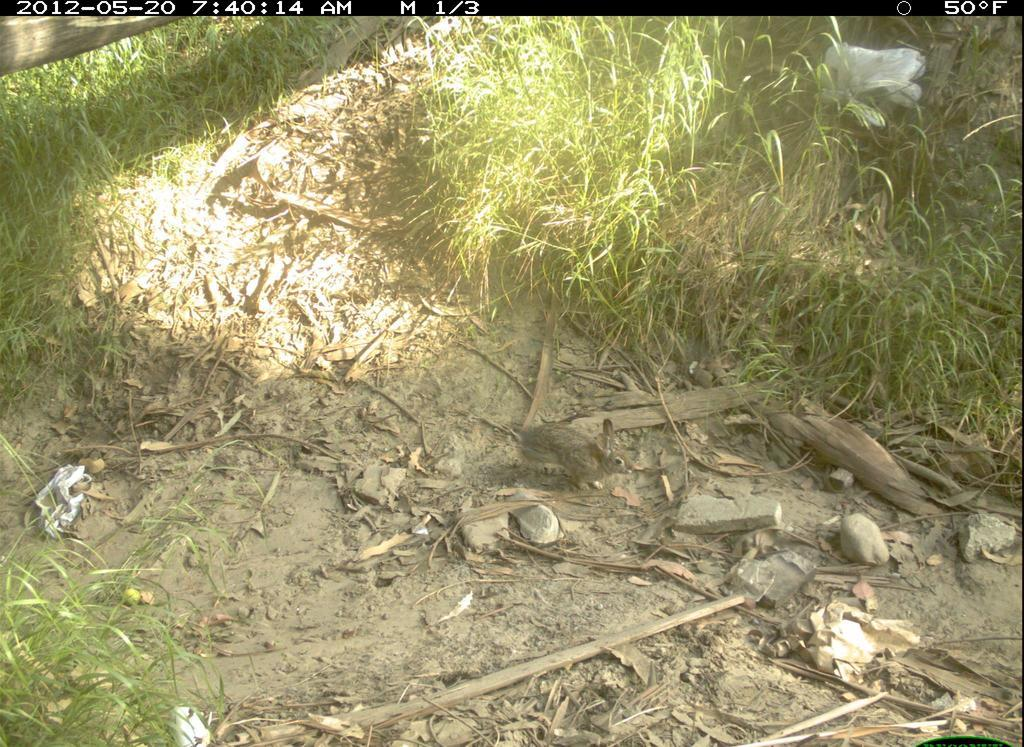rabbit: (506, 408, 651, 498)
